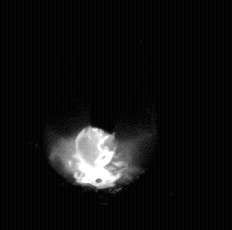arame: (91, 0, 116, 134)
poca: (46, 0, 153, 230)
